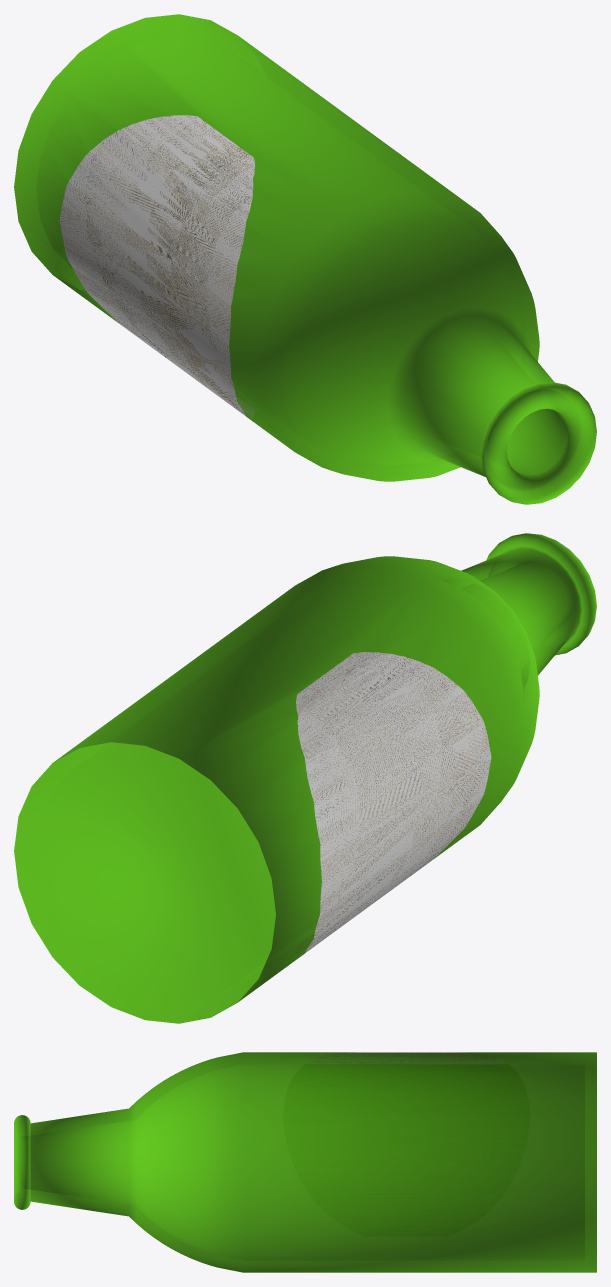
File: model_align.obj
3 views of the same model, one above another, from view 1: azimuth 30°, elevation 25°; view 2: azimuth 150°, elevation 25°; view 3: azimuth 270°, elevation 25° (orthographic). The views are drawn at different scales.
Parts seen in each view (by area): view 1: mesh1_mesh1-geometry; view 2: mesh1_mesh1-geometry; view 3: mesh1_mesh1-geometry.
Boxes of the visible parts, bbox=[...] form: mesh1_mesh1-geometry: bbox=[14, 14, 596, 504]; mesh1_mesh1-geometry: bbox=[14, 533, 596, 1023]; mesh1_mesh1-geometry: bbox=[14, 1052, 596, 1272].
Size of the model in its own units: 0.0544 by 0.0544 by 0.1435.
